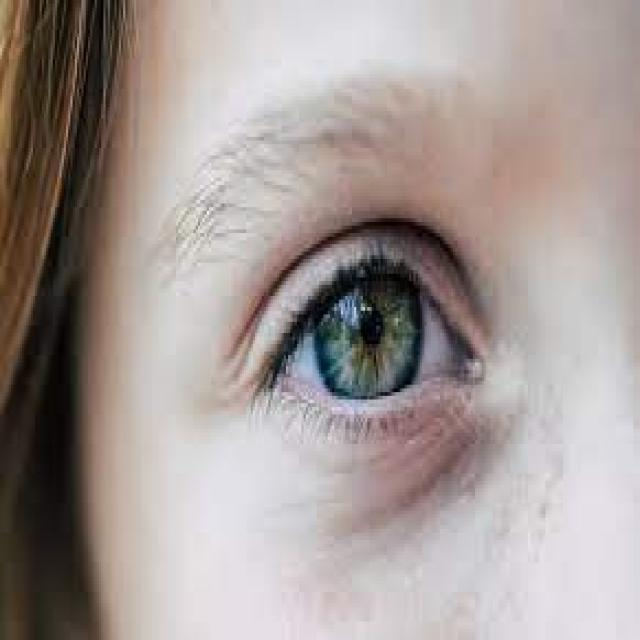Eyes-iris: (306, 262, 428, 401)
